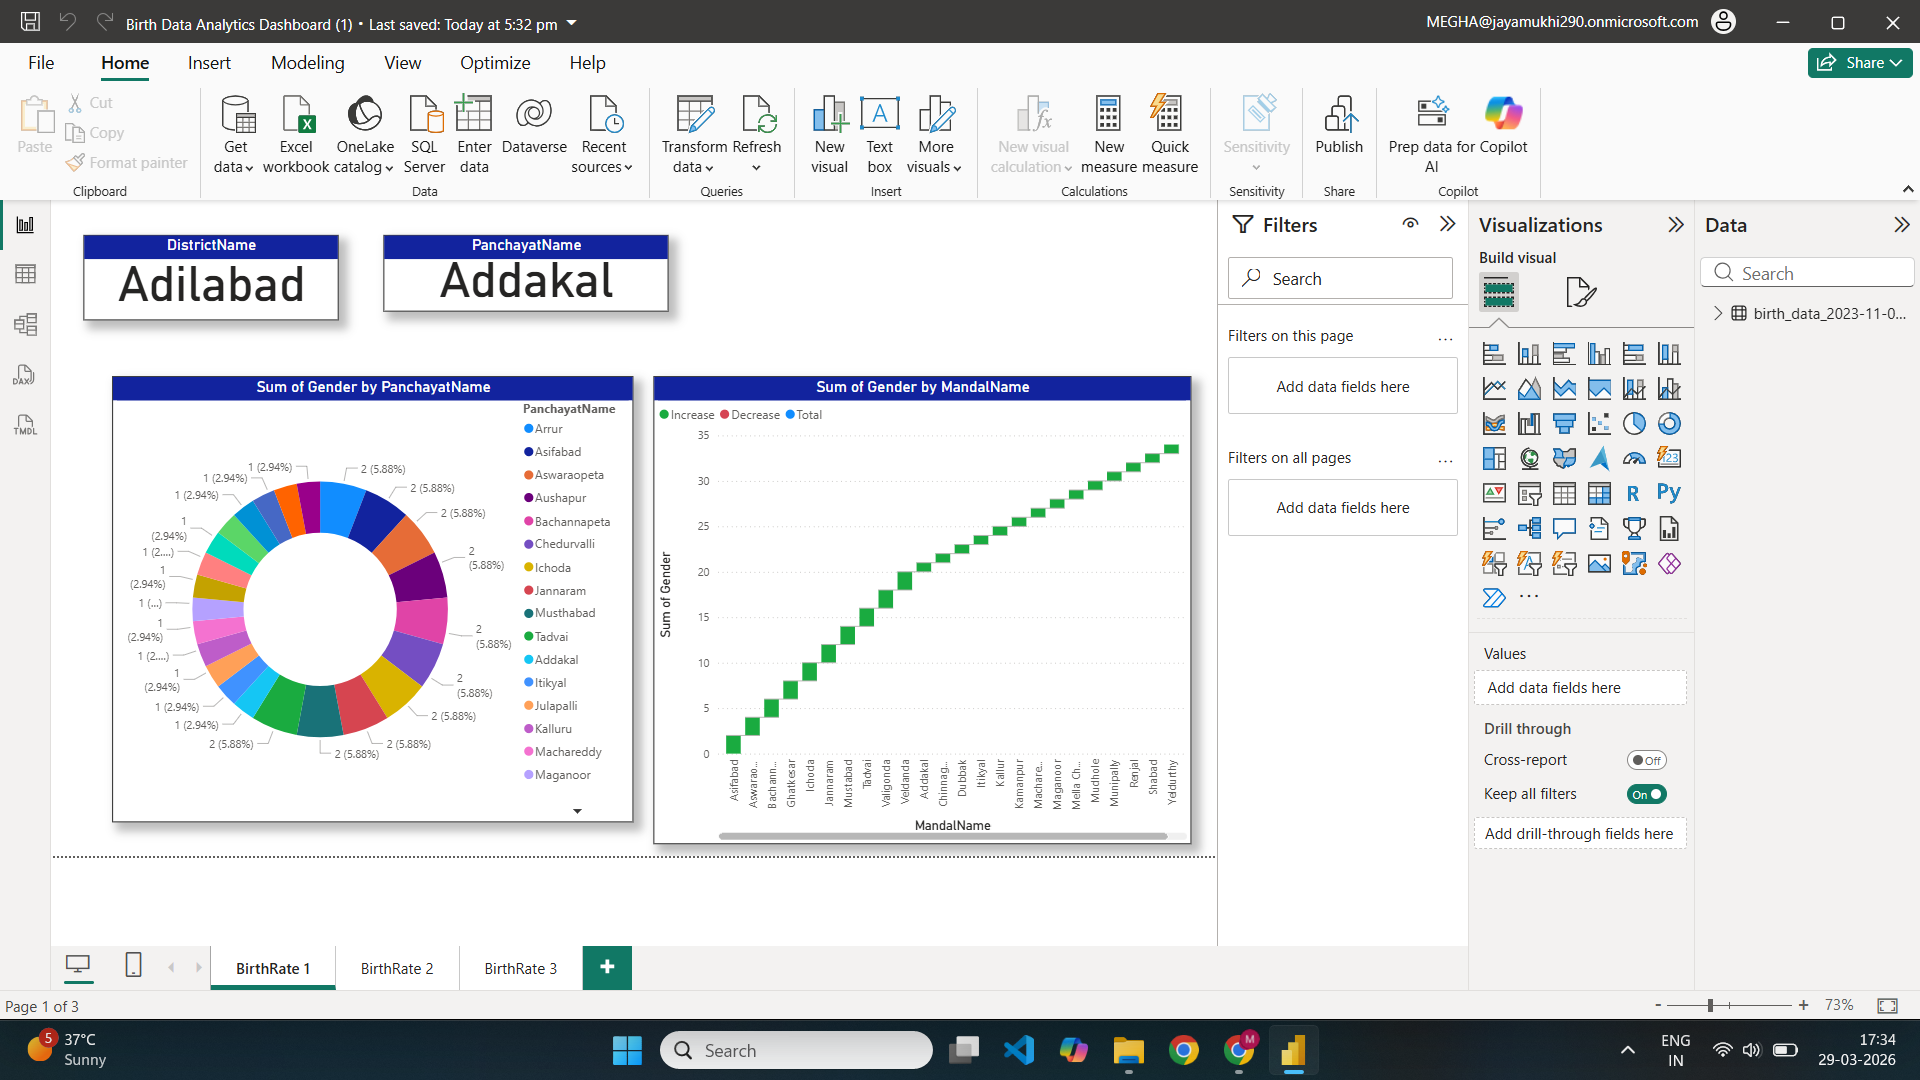

What the dashboard file says about the page in this screenshot:
{"tool":"powerbi","page":{"name":" BirthRate 1","canvas":[1280,720],"ordinal":0},"visuals":[{"type":"donutChart","fields":{"Y":["Sum(birth_data_2023-11-01_2023-11-30.Gender)"],"Category":["birth_data_2023-11-01_2023-11-30.PanchayatName"]},"box":[67.2,193.5,572.2,489.9],"z":0},{"type":"waterfallChart","fields":{"Category":["birth_data_2023-11-01_2023-11-30.MandalName"],"Y":["Sum(birth_data_2023-11-01_2023-11-30.Gender)"]},"box":[661.4,193.5,590.1,513.2],"z":1000},{"type":"card","title":"DistrictName","fields":{"Values":["Min(birth_data_2023-11-01_2023-11-30.DistrictName)"]},"box":[35.7,38.4,279.9,93.3],"z":2000},{"type":"card","title":"PanchayatName","fields":{"Values":["Min(birth_data_2023-11-01_2023-11-30.PanchayatName)"]},"box":[365,38.4,312.9,83.7],"z":3000}]}

Visuals, with their boxes on the page's 1280x720 design canvas (x1, y1, x2, y2). These are canvas units, not pixel positions in the 1920x1080 screenshot, which may show the page scaled, cropped or inside an application window:
donutChart - Sum(birth_data_2023-11-01_2023-11-30.Gender) x birth_data_2023-11-01_2023-11-30.PanchayatName: <bbox>67, 194, 639, 683</bbox>
waterfallChart - birth_data_2023-11-01_2023-11-30.MandalName x Sum(birth_data_2023-11-01_2023-11-30.Gender): <bbox>661, 194, 1252, 707</bbox>
"DistrictName" card: <bbox>36, 38, 316, 132</bbox>
"PanchayatName" card: <bbox>365, 38, 678, 122</bbox>
